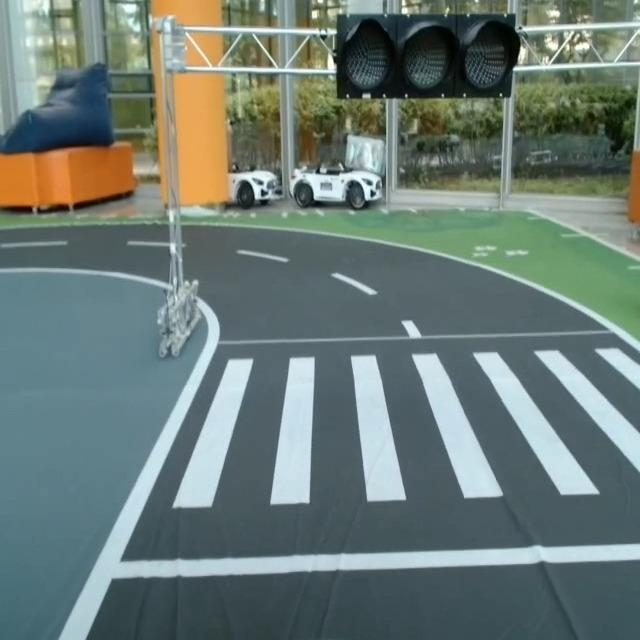traffic-light: (333, 10, 523, 101)
